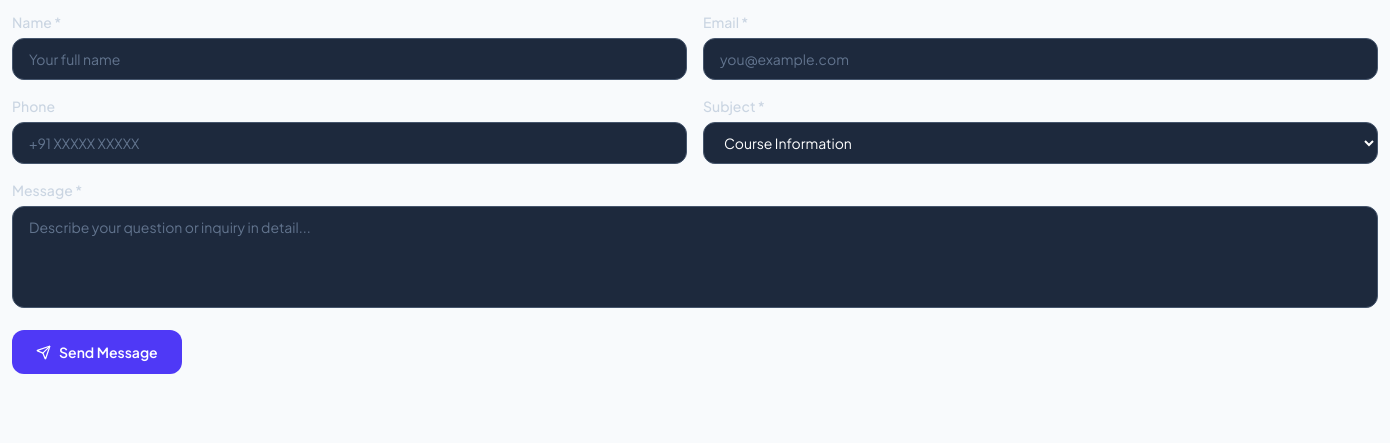
EnquiryForm › shows API error when submission fails
In the field with placeholder "Your full name": (350, 59) [12,38,687,80], type "Test User"
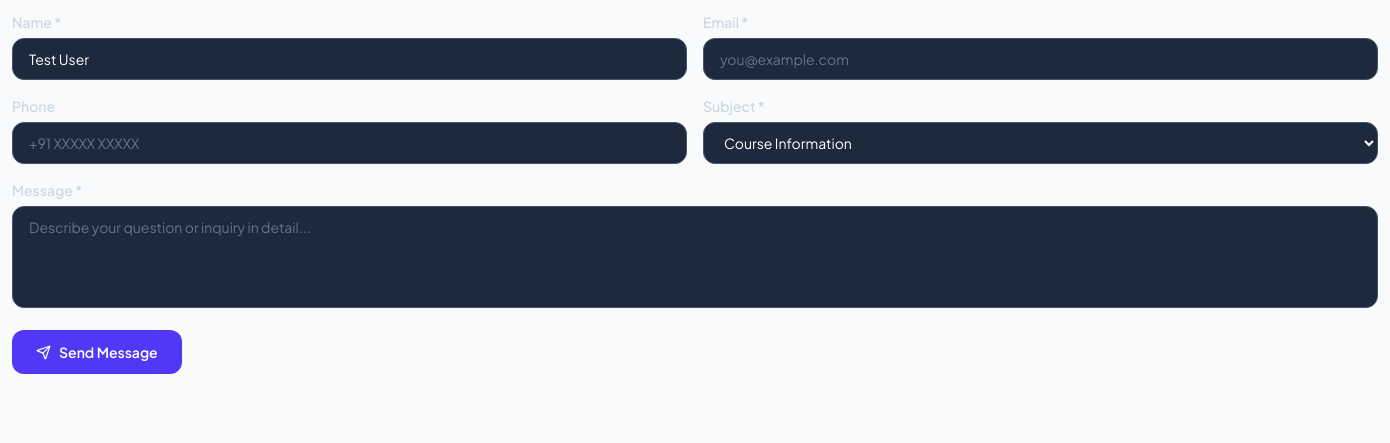
In the field with placeholder "you@example.com": (1040, 59) [703,38,1378,80], type "test@test.com"
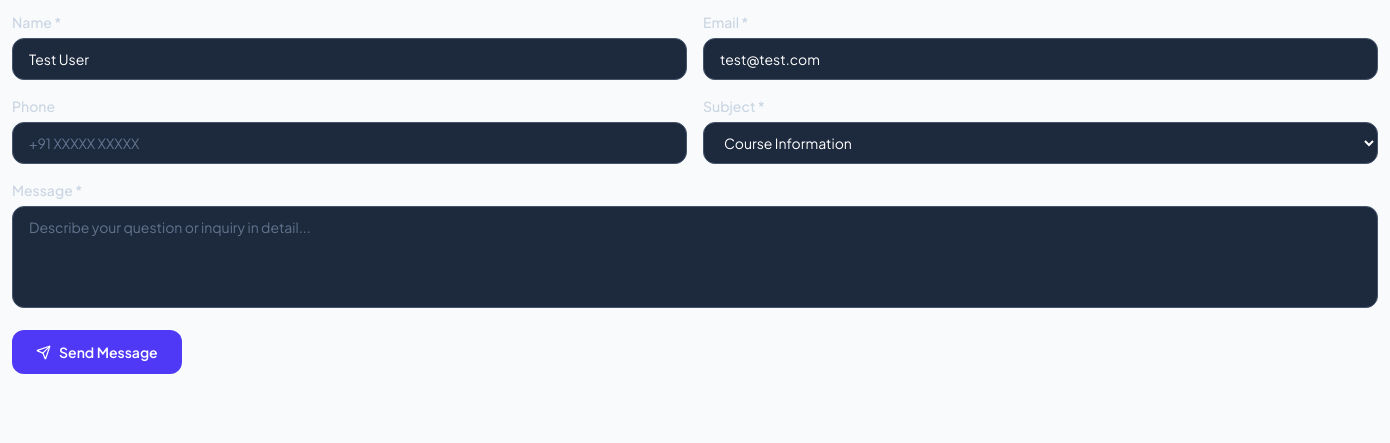
In the text box with placeholder "Describe your question or inquiry in detail...": (695, 257) [12,206,1378,308], type "Short"
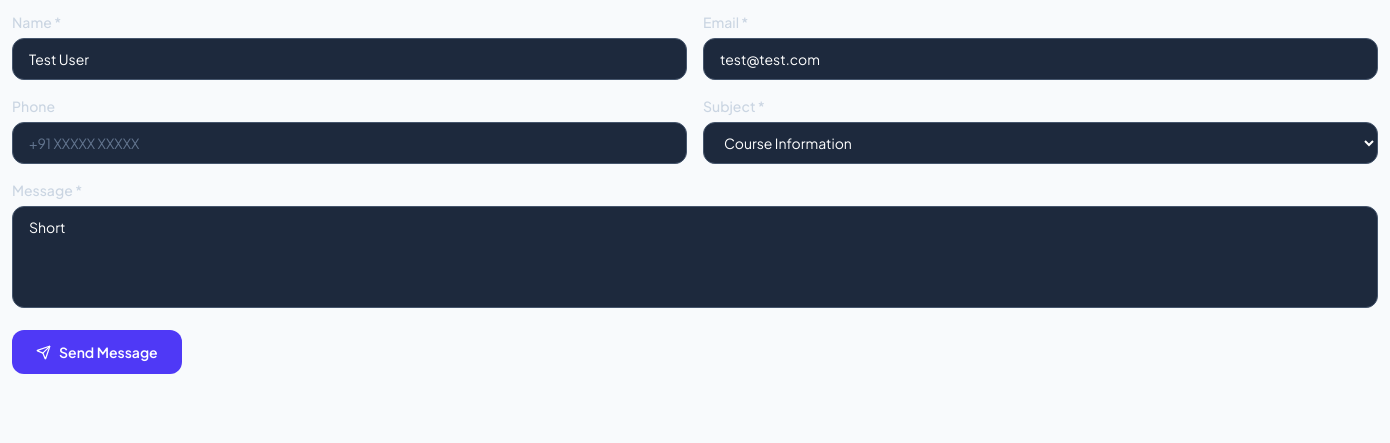
Click the button "Send Message": (97, 352) [12,330,182,374]
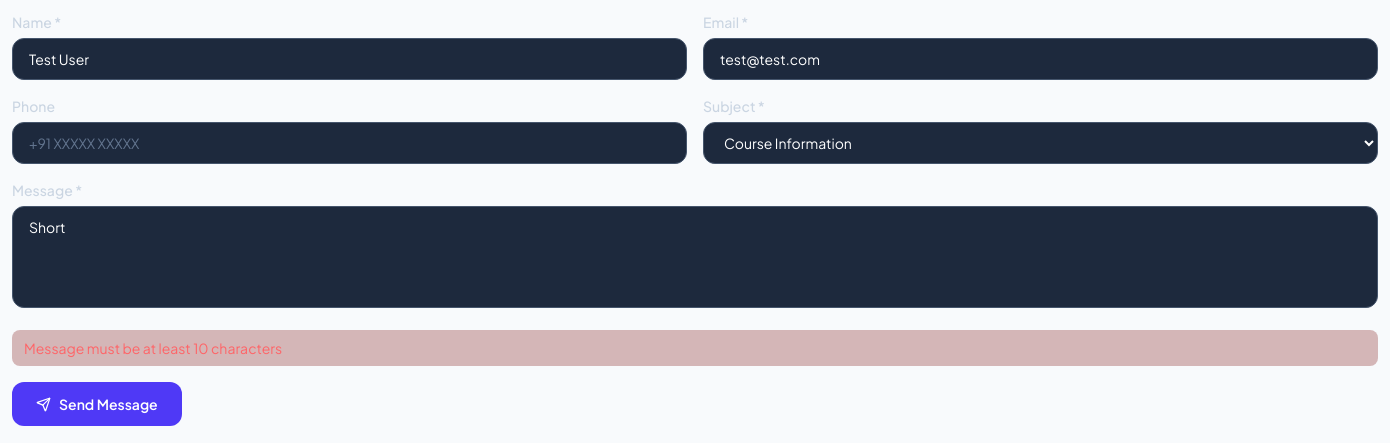
Expected: the text "Message must be at least 10 characters" is shown, [12,330,1378,366]
